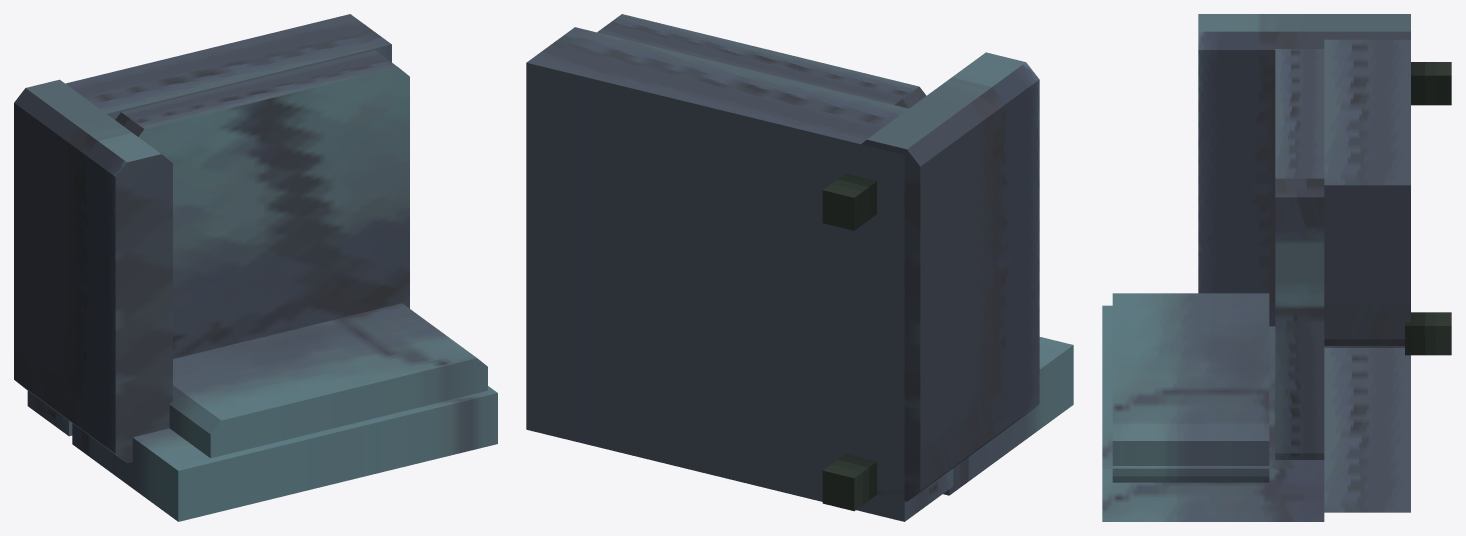
File: pz_sofa_seating_indoor_03_blue_comfy_0_0.obj
3 views of the same model, side by side, from view 1: azimuth 30°, elevation 25°; view 2: azimuth 150°, elevation 25°; view 3: azimuth 270°, elevation 25° (orthographic). The views are drawn at different scales.
Bounding box in the file's own units: 1 × 0.93 × 0.86.
Materials: 1 (1 with a texture image).
